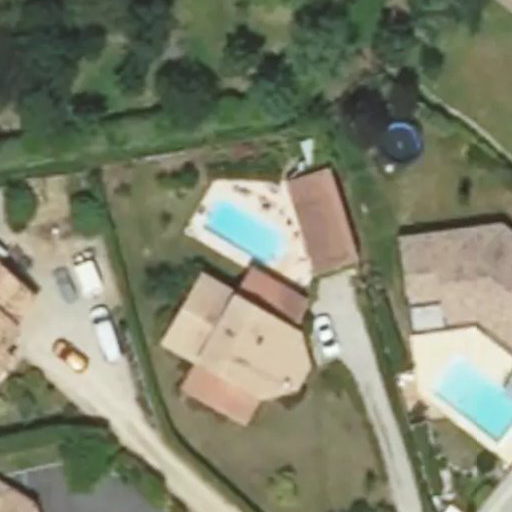pool: (429, 356, 512, 440), (203, 199, 285, 266)
